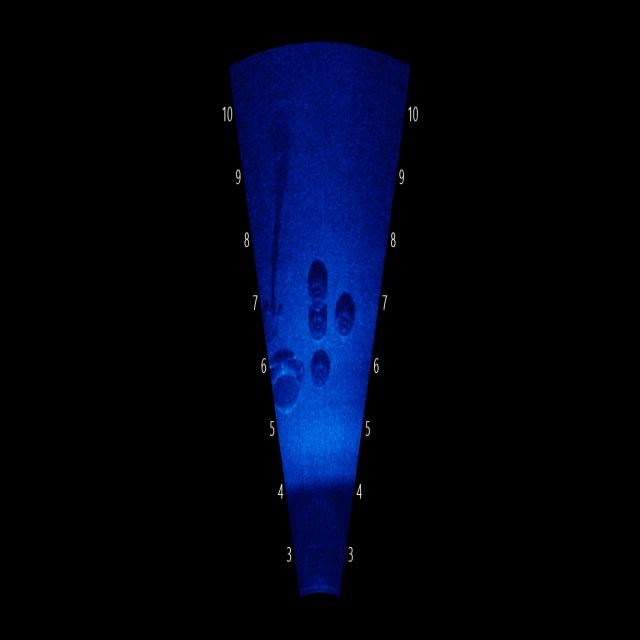circle: (267, 346, 308, 426), (332, 298, 358, 344)
